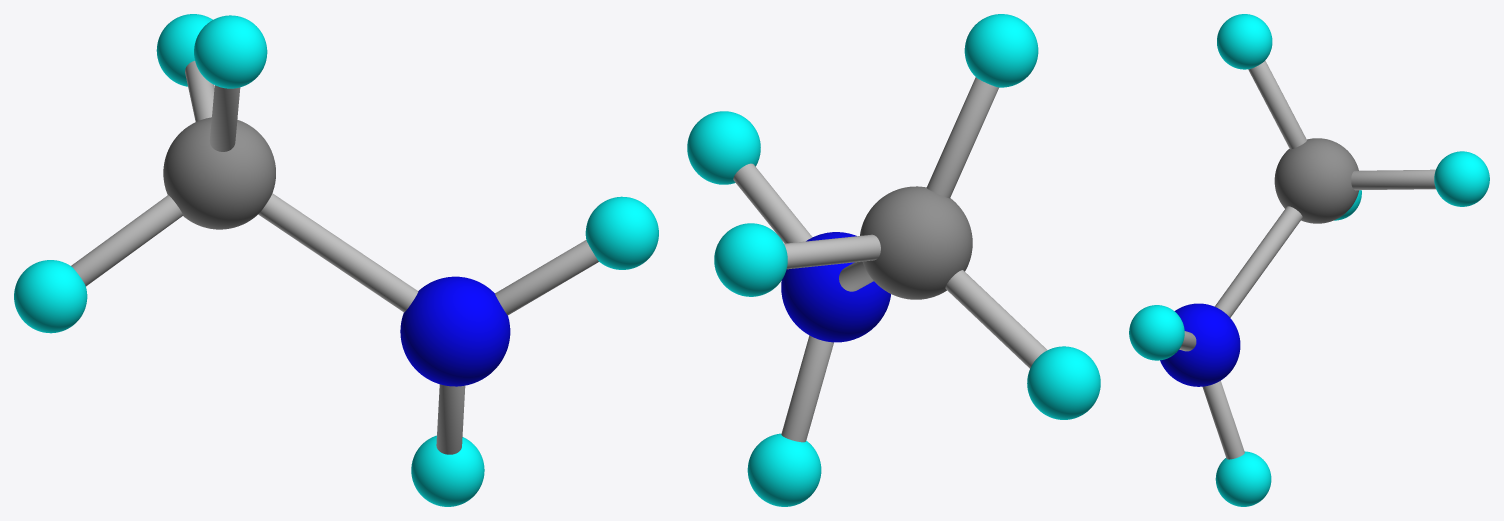
Rendered from methylamine.glb.
The picture shows the model from 3 angles, left to right: view 1: azimuth 30°, elevation 25°; view 2: azimuth 150°, elevation 25°; view 3: azimuth 270°, elevation 25°; orthographic projection. The views are drawn at different scales.
Parts seen in each view (by area): view 1: CMAtom_4, CMAtom_0, CMBond_3_Segment_0, CMAtom_3, CMAtom_1, CMAtom_6, CMAtom_5, CMBond_1_Segment_0, CMBond_6_Segment_0, CMAtom_2, CMBond_5_Segment_0, CMBond_4_Segment_0 (+1 smaller); view 2: CMAtom_0, CMAtom_4, CMAtom_2, CMAtom_1, CMAtom_3, CMAtom_5, CMAtom_6, CMBond_4_Segment_0, CMBond_1_Segment_0, CMBond_5_Segment_0, CMBond_2_Segment_0, CMBond_6_Segment_0 (+1 smaller); view 3: CMAtom_0, CMAtom_4, CMBond_3_Segment_0, CMAtom_2, CMAtom_3, CMAtom_6, CMAtom_5, CMBond_4_Segment_0, CMBond_2_Segment_0, CMBond_5_Segment_0.
Boxes of the visible parts, left/top/right/bottom form: CMAtom_4: left=400, top=276, right=510, bottom=386; CMAtom_0: left=163, top=117, right=275, bottom=229; CMBond_3_Segment_0: left=258, top=193, right=418, bottom=312; CMAtom_3: left=194, top=15, right=267, bottom=88; CMAtom_1: left=14, top=260, right=87, bottom=333; CMAtom_6: left=585, top=196, right=658, bottom=269; CMAtom_5: left=411, top=435, right=484, bottom=506; CMBond_1_Segment_0: left=71, top=195, right=182, bottom=286; CMBond_6_Segment_0: left=495, top=240, right=598, bottom=315; CMAtom_2: left=156, top=14, right=212, bottom=86; CMBond_5_Segment_0: left=436, top=384, right=465, bottom=454; CMBond_4_Segment_0: left=209, top=85, right=240, bottom=151; CMAtom_0: left=860, top=186, right=972, bottom=299; CMAtom_4: left=781, top=232, right=890, bottom=342; CMAtom_2: left=714, top=223, right=787, bottom=296; CMAtom_1: left=1027, top=346, right=1100, bottom=419; CMAtom_3: left=964, top=14, right=1038, bottom=87; CMAtom_5: left=747, top=433, right=821, bottom=506; CMAtom_6: left=687, top=111, right=760, bottom=184; CMBond_4_Segment_0: left=926, top=77, right=998, bottom=198; CMBond_1_Segment_0: left=945, top=270, right=1047, bottom=368; CMBond_5_Segment_0: left=781, top=335, right=833, bottom=442; CMBond_2_Segment_0: left=784, top=234, right=880, bottom=269; CMBond_6_Segment_0: left=733, top=163, right=812, bottom=243; CMAtom_0: left=1274, top=138, right=1358, bottom=223; CMAtom_4: left=1160, top=303, right=1240, bottom=386; CMBond_3_Segment_0: left=1215, top=206, right=1302, bottom=317; CMAtom_2: left=1434, top=151, right=1489, bottom=206; CMAtom_3: left=1217, top=14, right=1272, bottom=69; CMAtom_6: left=1129, top=305, right=1184, bottom=360; CMAtom_5: left=1215, top=451, right=1271, bottom=506; CMBond_4_Segment_0: left=1248, top=60, right=1306, bottom=149; CMBond_2_Segment_0: left=1351, top=169, right=1435, bottom=190; CMBond_5_Segment_0: left=1202, top=380, right=1244, bottom=459.
Bounding box in the file's own units: 3.27 × 3.23 × 2.59.
